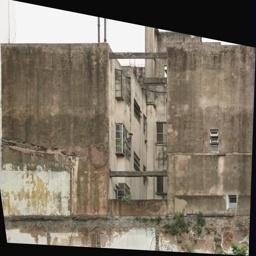building: (105, 42, 173, 219)
